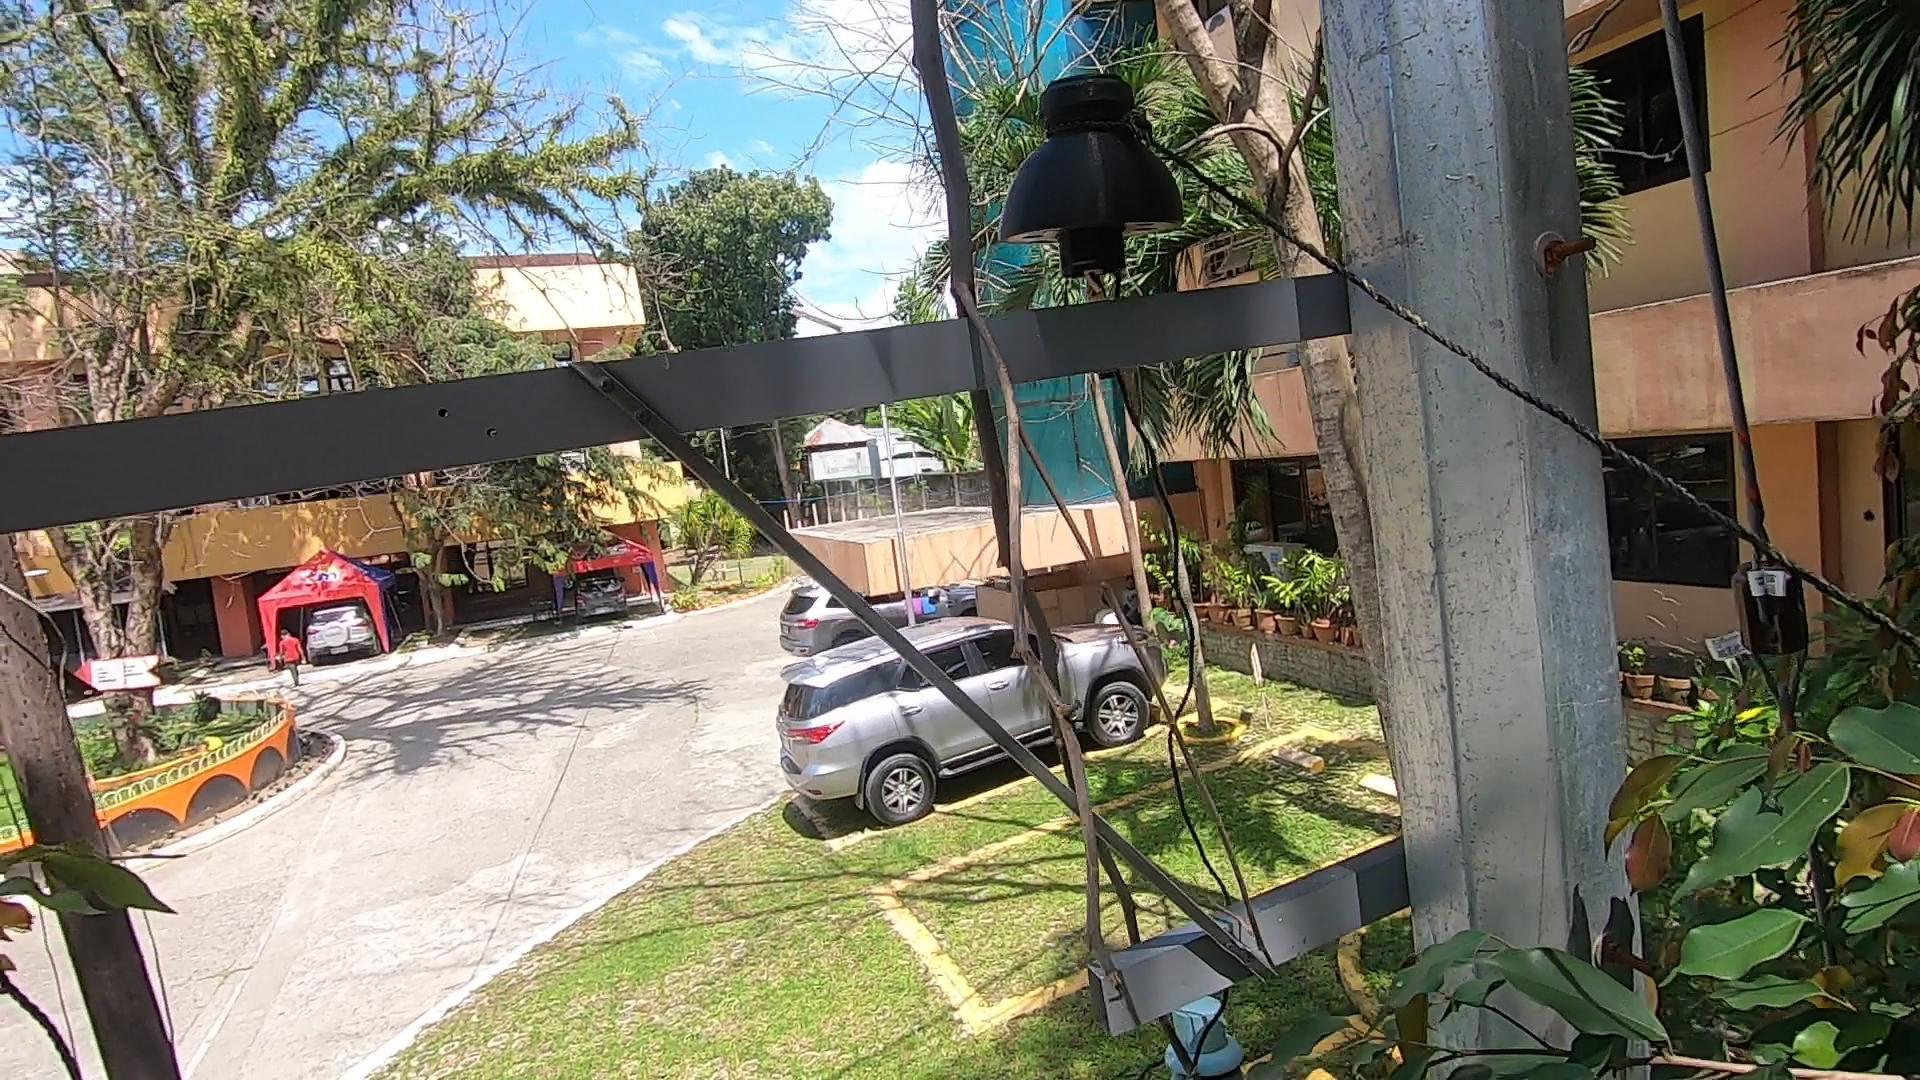branch with leaves: (1309, 907, 1625, 1080)
tree branch: (847, 1, 1174, 1019)
